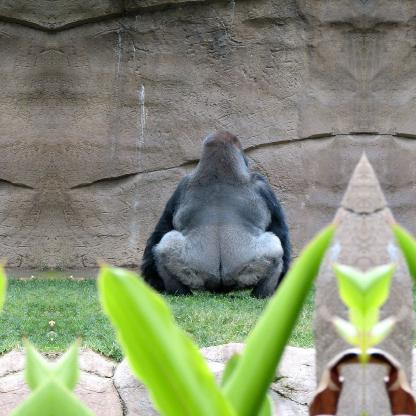Monkey: (140, 127, 290, 296)
